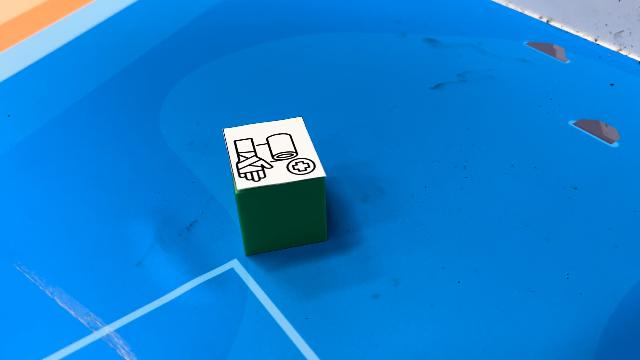bandage: (220, 115, 330, 257)
